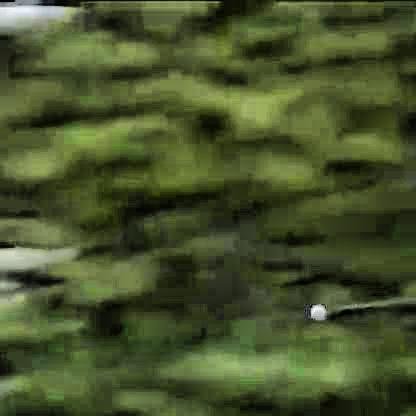golfball: (306, 301, 322, 317)
